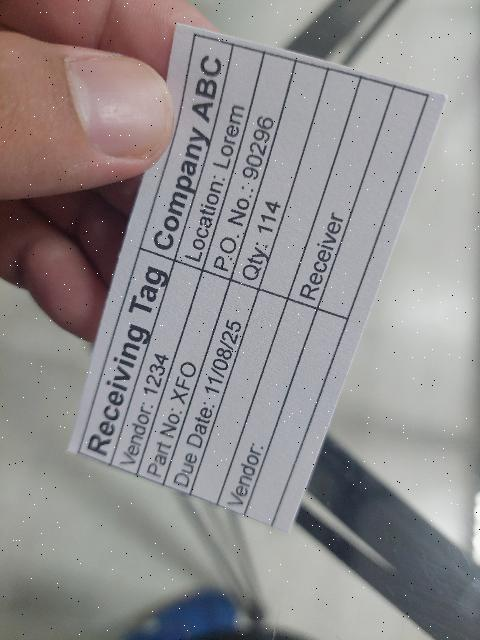PO no: (203, 53, 295, 282)
part no: (137, 271, 230, 483)
qty: (232, 60, 328, 289)
tags: (66, 24, 446, 537)
